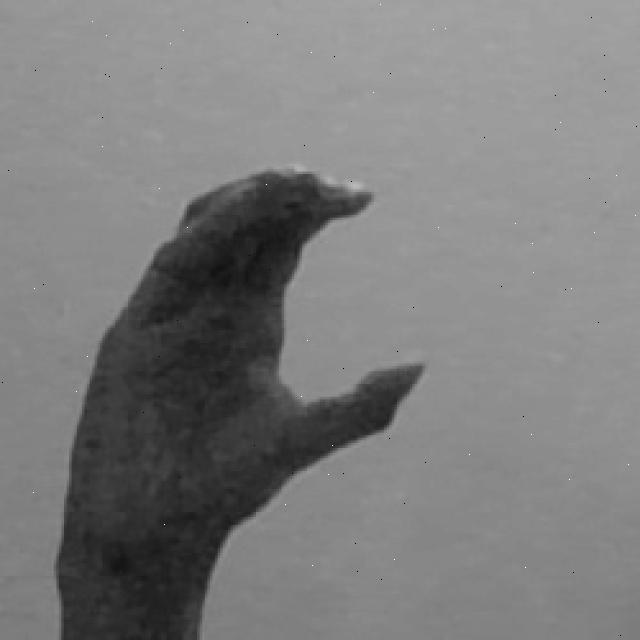C: (51, 158, 427, 640)
